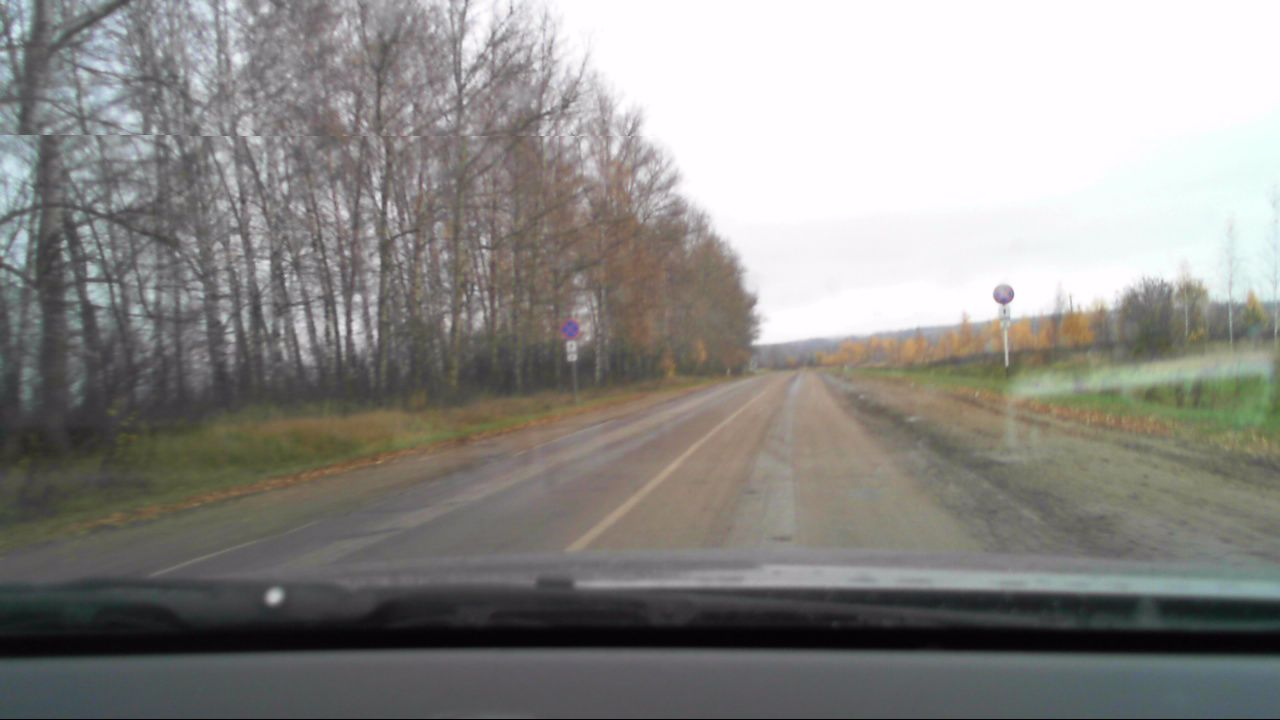No Parking: (993, 284, 1012, 304)
